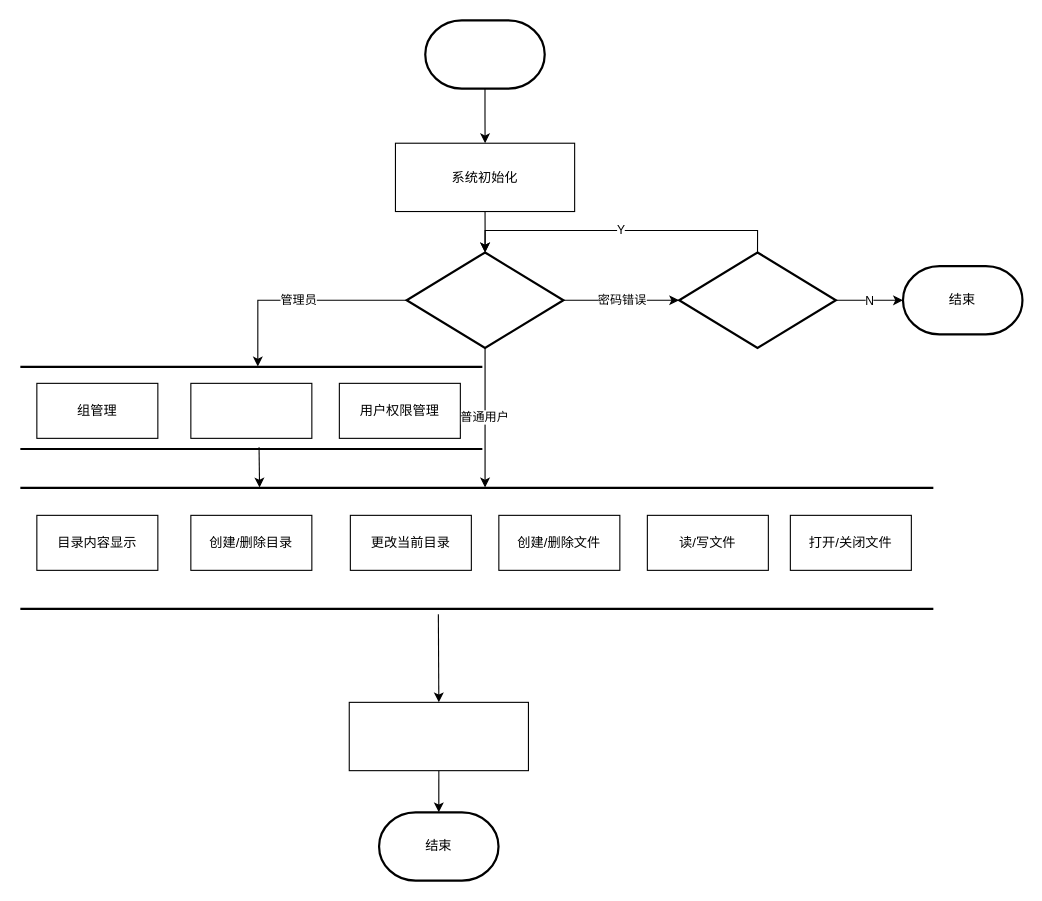
This 1042x901 diagram has some shape labels left out. The shapes that lost their labels are listed below. From the top down, each one's centre as x and y in pixels, then its label:
At point (484, 54): "开始".
At point (484, 300): "登陆".
At point (756, 300): "重新输入".
At point (251, 410): "创建/删除用户".
At point (438, 736): "退出登陆".
